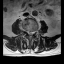CCS_stenosis: (29, 29, 31, 38)
LFS_normal: (33, 28, 35, 35)
LLS_normal: (31, 29, 33, 37)
RFS_stenosis: (25, 28, 27, 34)
RLS_normal: (27, 29, 29, 37)
